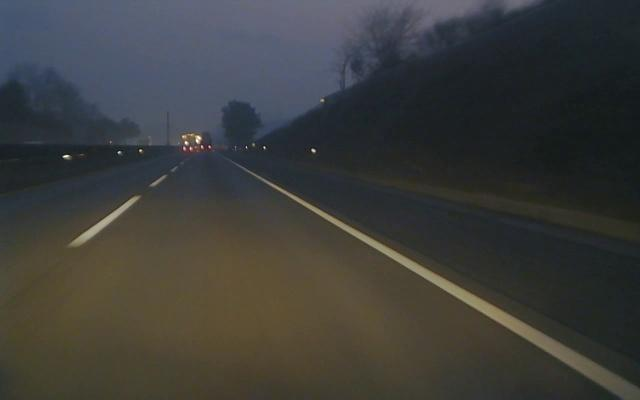lane: (241, 165, 640, 400), (58, 161, 184, 250)
